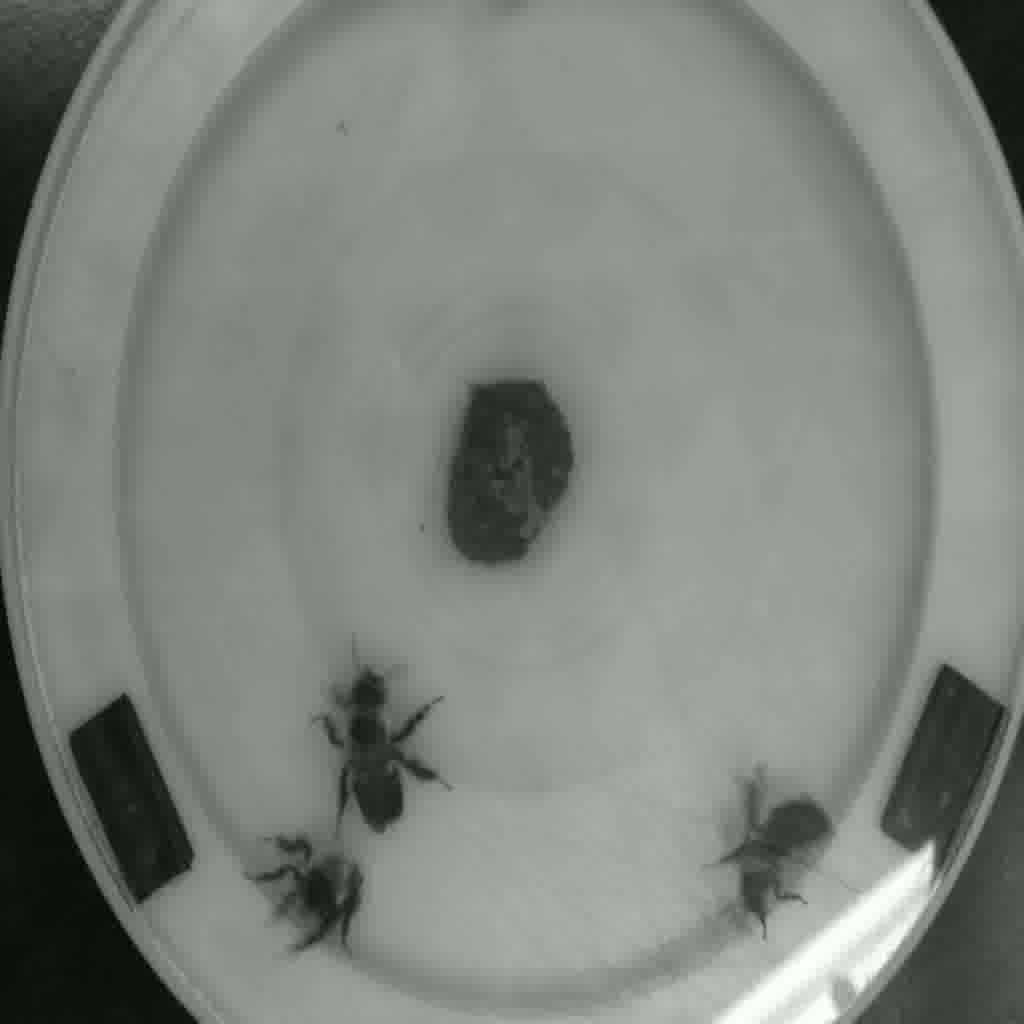bee: (311, 669, 451, 835), (234, 826, 383, 962), (707, 781, 852, 914)
